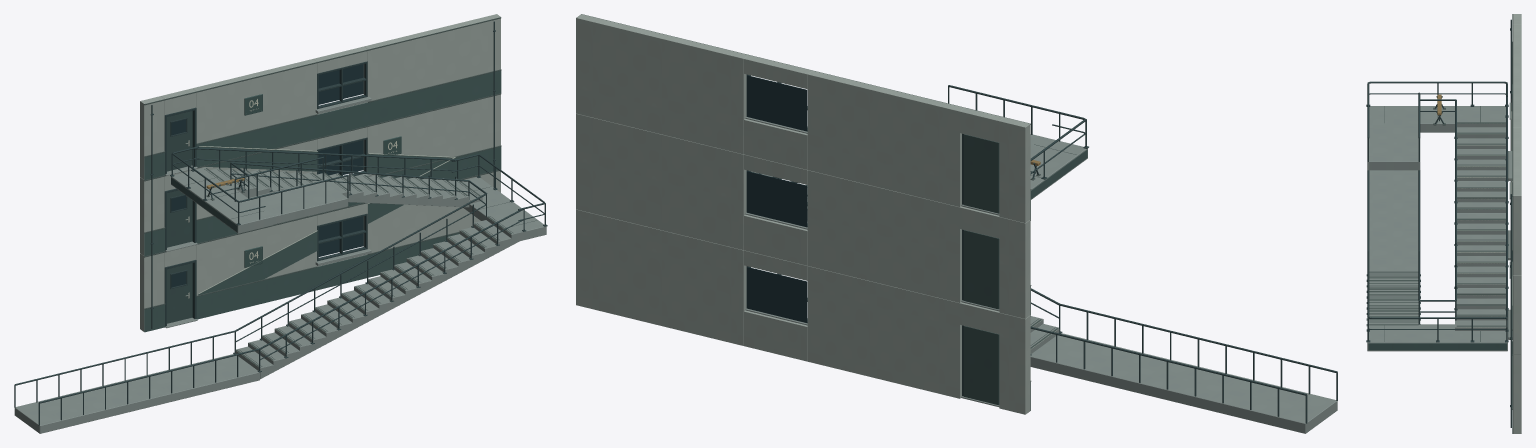
Rendered from stairwell_sample.glb.
3 renders of one model, left to right at view 1: azimuth 30°, elevation 25°; view 2: azimuth 150°, elevation 25°; view 3: azimuth 270°, elevation 25°, orthographic. The views are drawn at different scales.
Parts seen in each view (by area): view 1: Architecture__plaster, Architecture__dado, flight_0__concrete, entry__concrete, flight_1__concrete, Architecture__metal, Architecture__glass, Architecture__door, flight_0__metal, Architecture__joint, sample_exit__concrete, flight_1__metal (+11 smaller); view 2: Architecture__plaster, entry__concrete, Architecture__glass, Architecture__door, entry__metal, turn_1__concrete, Architecture__concrete; view 3: flight_1__concrete, entry__concrete, Architecture__plaster, sample_exit__concrete, turn_0__concrete, flight_0__concrete, turn_1__concrete, flight_1__joint, flight_0__joint, turn_0__dado, turn_1__metal, flight_1__metal (+8 smaller).
Boxes of the visible parts, bbox=[...] form: Architecture__plaster: bbox=[140, 14, 500, 331]; Architecture__dado: bbox=[144, 70, 501, 332]; flight_0__concrete: bbox=[235, 213, 524, 379]; entry__concrete: bbox=[14, 354, 259, 433]; flight_1__concrete: bbox=[194, 167, 482, 207]; Architecture__metal: bbox=[150, 21, 495, 328]; Architecture__glass: bbox=[171, 64, 363, 287]; Architecture__door: bbox=[167, 111, 192, 323]; flight_0__metal: bbox=[233, 193, 526, 372]; Architecture__joint: bbox=[144, 17, 501, 309]; sample_exit__concrete: bbox=[236, 180, 348, 227]; flight_1__metal: bbox=[191, 147, 468, 199]; Architecture__plaster: bbox=[576, 14, 1030, 414]; entry__concrete: bbox=[1030, 333, 1337, 433]; Architecture__glass: bbox=[746, 75, 807, 322]; Architecture__door: bbox=[964, 134, 999, 405]; entry__metal: bbox=[1030, 303, 1337, 423]; turn_1__concrete: bbox=[1030, 141, 1087, 199]; Architecture__concrete: bbox=[745, 117, 999, 406]; flight_1__concrete: bbox=[1455, 117, 1507, 330]; entry__concrete: bbox=[1369, 170, 1418, 271]; Architecture__plaster: bbox=[1513, 14, 1521, 433]; sample_exit__concrete: bbox=[1367, 117, 1420, 170]; turn_0__concrete: bbox=[1367, 324, 1507, 351]; flight_0__concrete: bbox=[1367, 272, 1420, 330]; turn_1__concrete: bbox=[1369, 106, 1505, 132]; flight_1__joint: bbox=[1456, 122, 1505, 326]; flight_0__joint: bbox=[1369, 271, 1418, 325]; turn_0__dado: bbox=[1368, 343, 1506, 350]; turn_1__metal: bbox=[1366, 81, 1508, 111]; flight_1__metal: bbox=[1454, 96, 1508, 331].
Bounding box in the file's own units: 24.13 × 10.26 × 5.84.
Materials: 12 (4 with a texture image).
